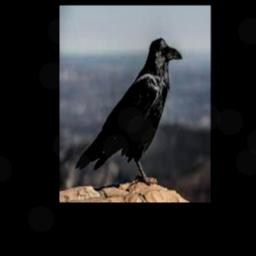Crow: (74, 37, 182, 185)
